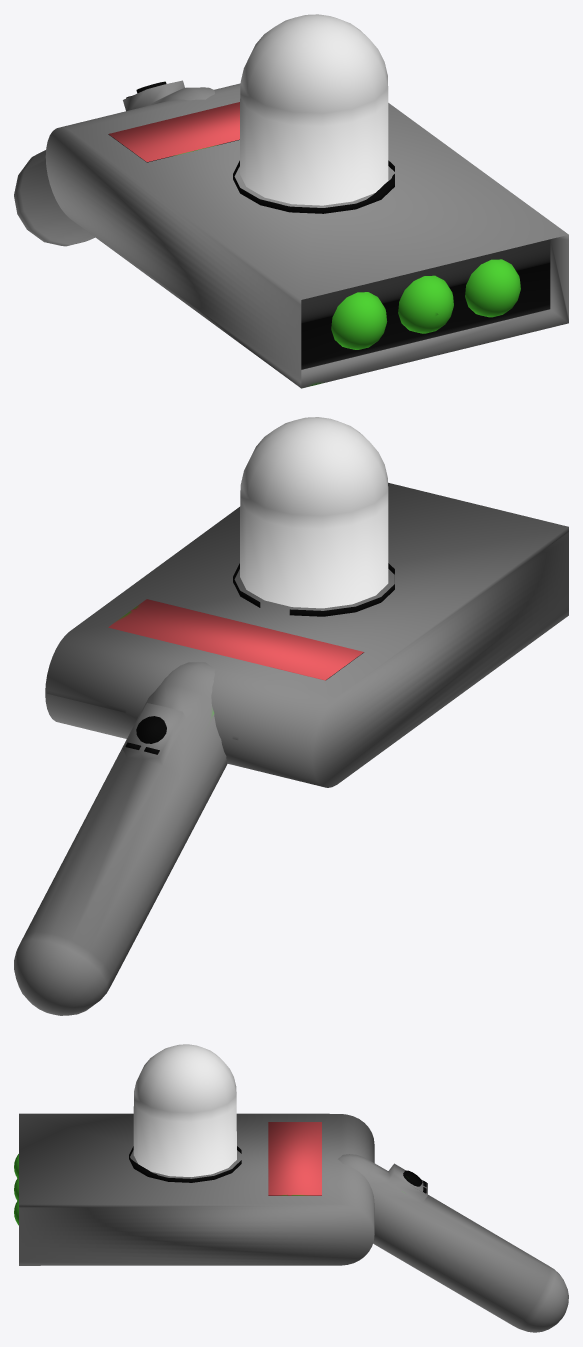
The model's file is Portal gun2.fbx.
3 renders of one model, top to bottom at view 1: azimuth 30°, elevation 25°; view 2: azimuth 150°, elevation 25°; view 3: azimuth 270°, elevation 25°, orthographic. The views are drawn at different scales.
Parts seen in each view (by area): view 1: Portal Gun.001; view 2: Portal Gun.001; view 3: Portal Gun.001.
Boxes of the visible parts, left/top/right/bottom form: Portal Gun.001: left=14, top=14, right=568, bottom=388; Portal Gun.001: left=14, top=417, right=568, bottom=1015; Portal Gun.001: left=14, top=1044, right=568, bottom=1332.
Bounding box in the file's own units: 200 × 288 × 517.
3 materials, 2 textured.
